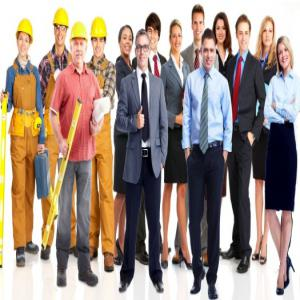none: (200, 29, 217, 72), (146, 12, 162, 52), (168, 19, 185, 56), (277, 36, 294, 73), (135, 30, 151, 69), (191, 4, 207, 43), (236, 14, 252, 52), (214, 12, 230, 49), (261, 15, 277, 51), (118, 22, 134, 57)
yellow: (70, 21, 89, 67), (90, 17, 109, 60), (16, 19, 36, 58), (53, 8, 70, 48)
